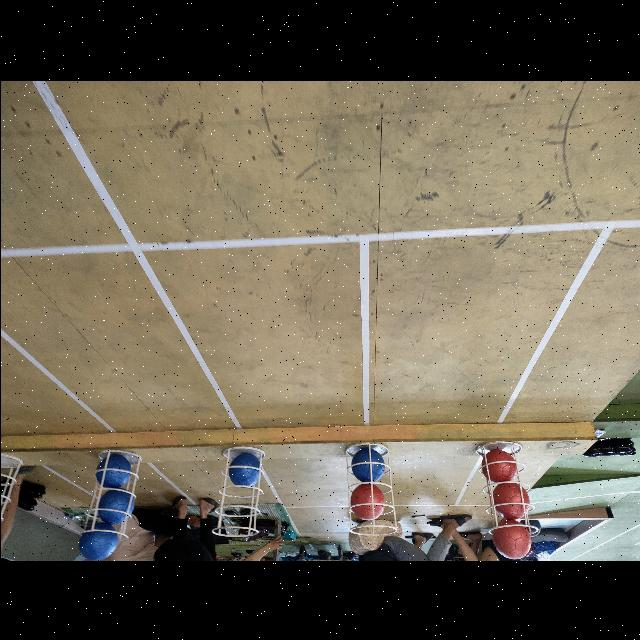B: (80, 522, 116, 560), (98, 488, 134, 524), (350, 447, 384, 483), (226, 452, 262, 486), (96, 454, 130, 486)
R: (492, 518, 530, 560), (480, 447, 516, 481), (494, 484, 528, 516), (349, 486, 383, 518)
